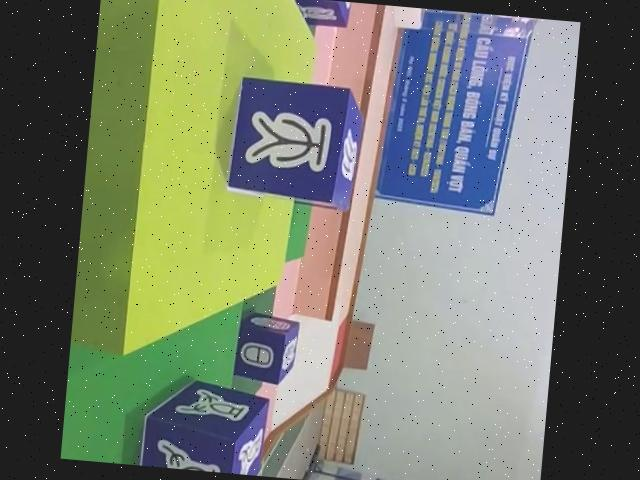R2 Fake Blue: (224, 75, 367, 212), (233, 311, 301, 387), (281, 0, 352, 31)
R2 Real Blue: (136, 374, 269, 476)
